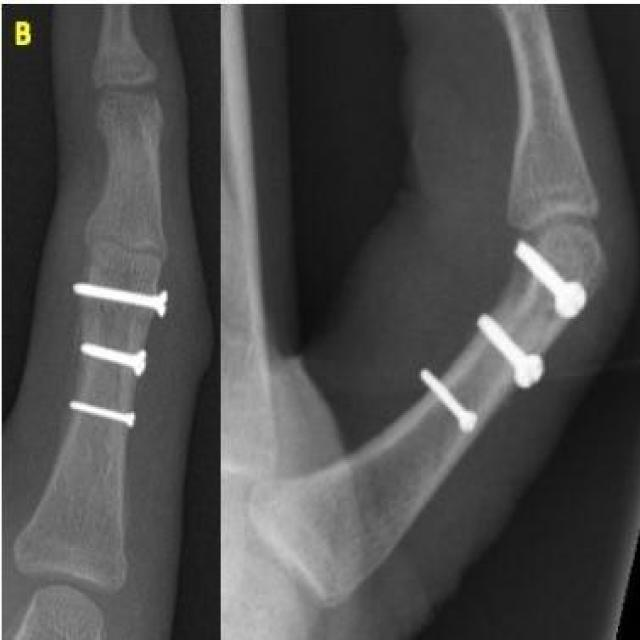fracture: (416, 237, 589, 448), (63, 270, 170, 440)
